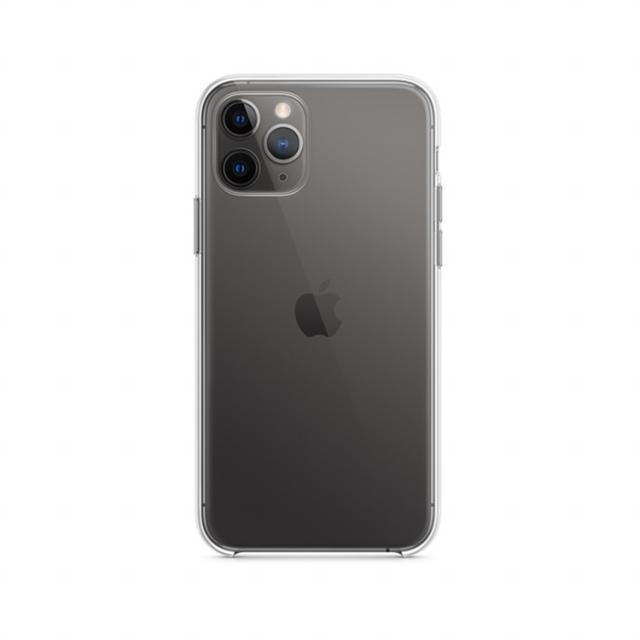phone: (192, 72, 444, 560)
